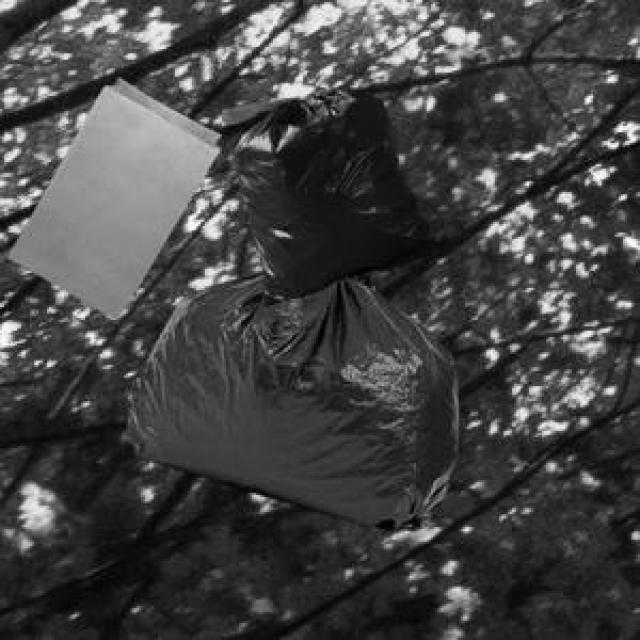miscellaneous trash: (124, 269, 454, 527), (220, 83, 454, 301)
paper: (4, 75, 216, 316)
